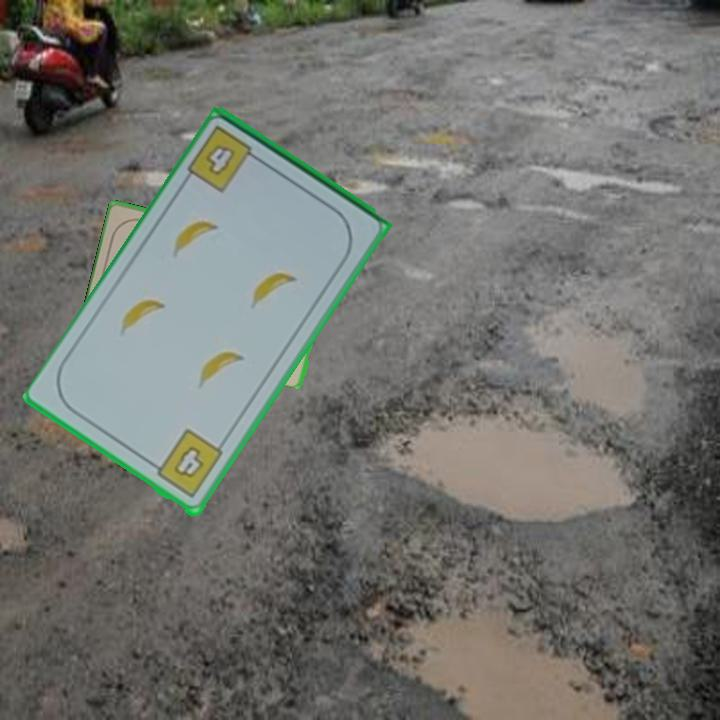4b: (146, 426, 226, 503), (184, 122, 266, 196)
